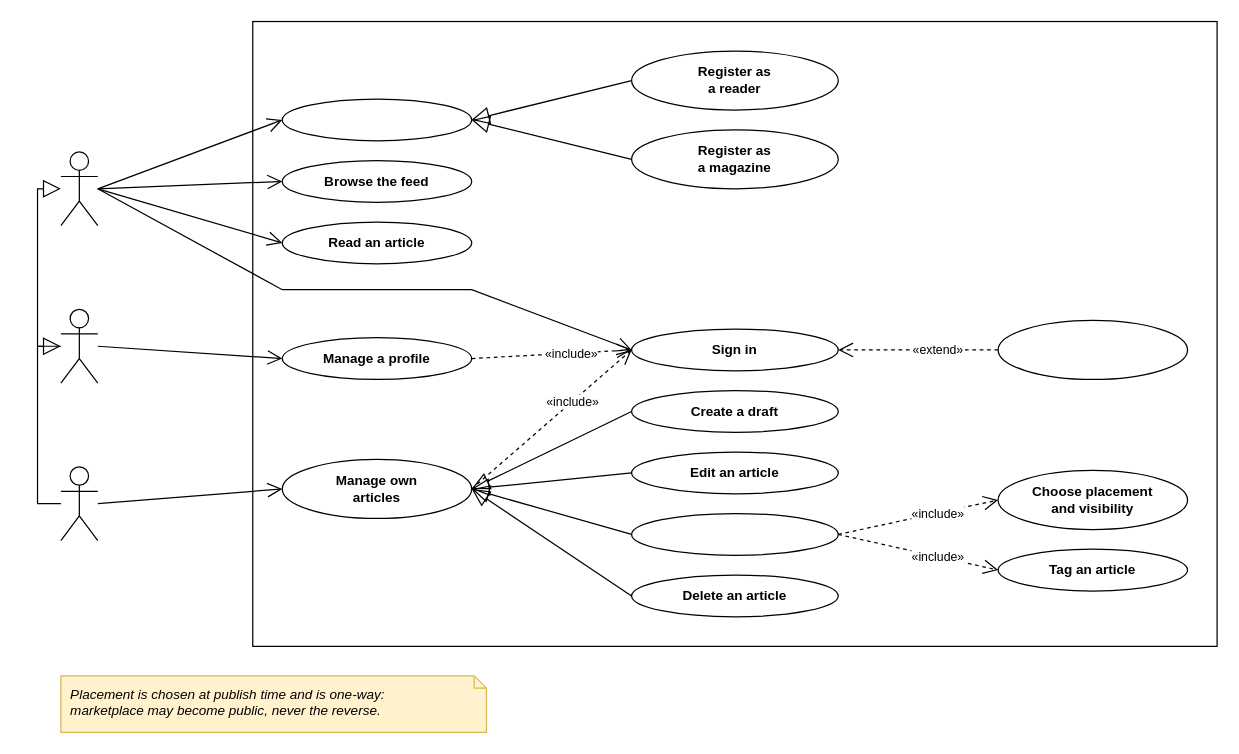
Some shapes in this 1239 by 754 pixel diagram are drawn without their labels. Here are the shapes that lost their labels. From the top down, the centre of each, then its label:
At (x=376, y=119): "Register".
At (x=79, y=188): "Visitor".
At (x=79, y=345): "Reader".
At (x=1092, y=349): "Sign in with Google".
At (x=79, y=503): "Writer".
At (x=734, y=533): "Publish an article".
